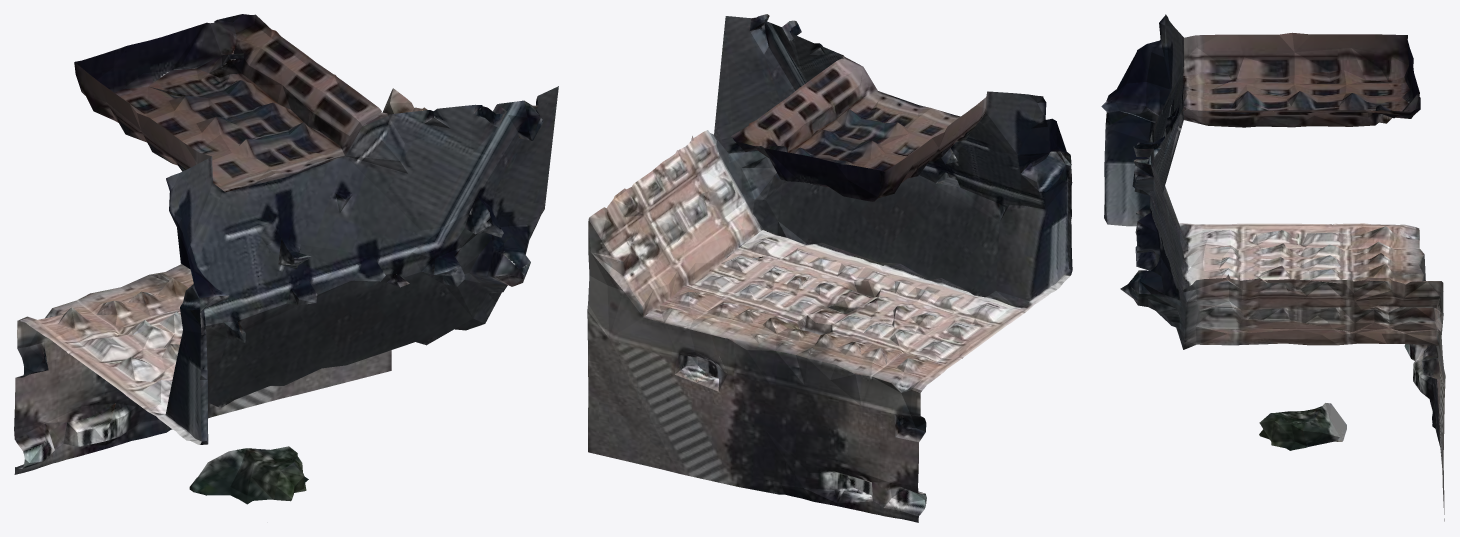
The model's file is Tile_+038_+020_L19_000121.obj.
3 renders of one model, left to right at view 1: azimuth 30°, elevation 25°; view 2: azimuth 150°, elevation 25°; view 3: azimuth 270°, elevation 25°, orthographic. The views are drawn at different scales.
Bounding box in the file's own units: 31.75 × 31.75 × 28.53.
1 material, 1 textured.
